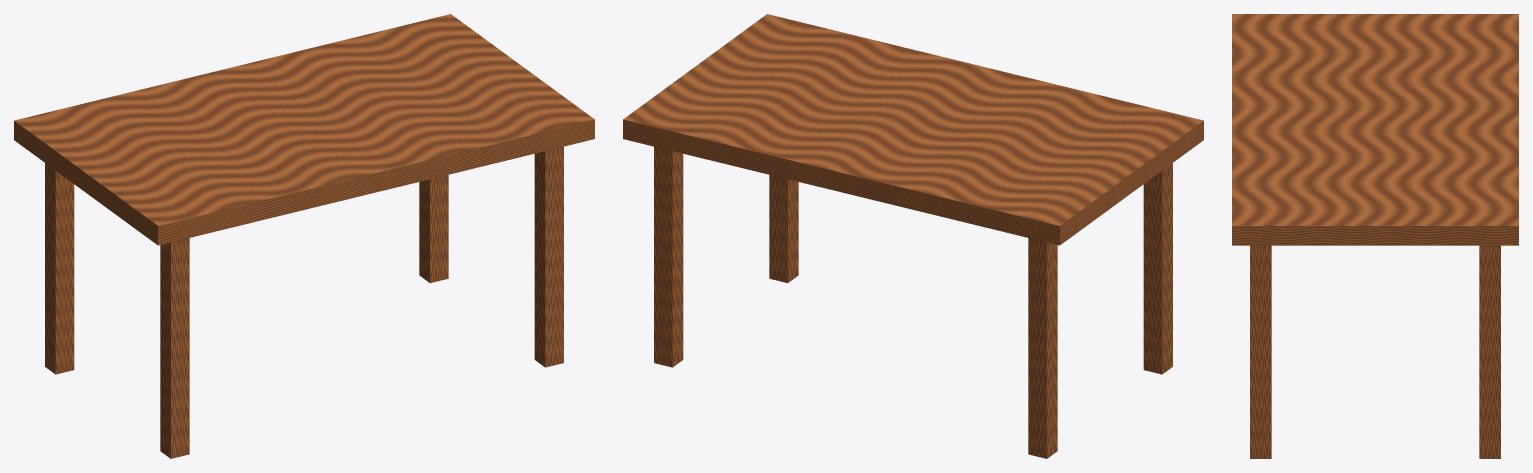
Rendered from table.glb.
3 renders of one model, left to right at view 1: azimuth 30°, elevation 25°; view 2: azimuth 150°, elevation 25°; view 3: azimuth 270°, elevation 25°, orthographic.
Parts seen in each view (by area): view 1: table; view 2: table; view 3: table.
Boxes of the visible parts, bbox=[...] form: table: bbox=[14, 14, 594, 458]; table: bbox=[623, 14, 1203, 458]; table: bbox=[1232, 14, 1518, 458].
Size of the model in its own units: 1.4 by 0.75 by 0.8.
1 material, 1 textured.
